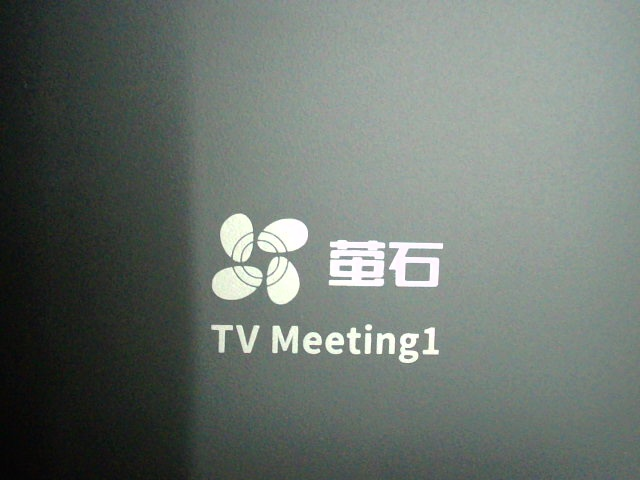BA_Yingshi: (207, 207, 439, 382)
